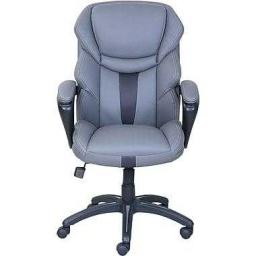Chair: (56, 1, 197, 255)
